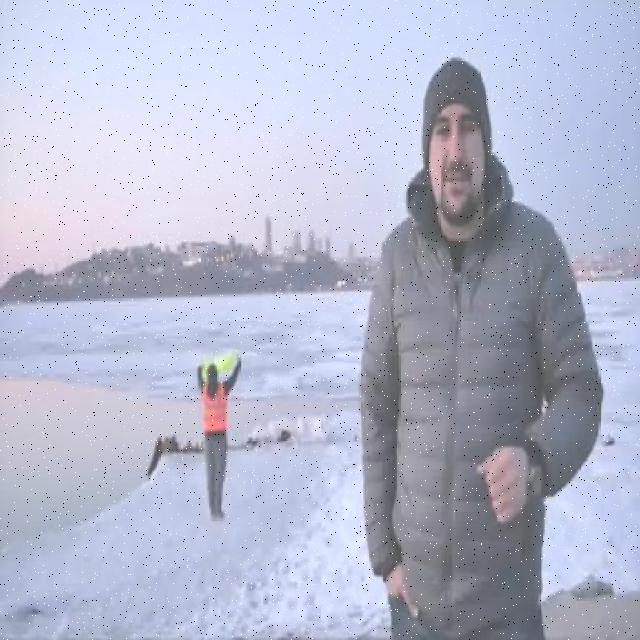Mask: (201, 380, 227, 434), (198, 351, 237, 382)
